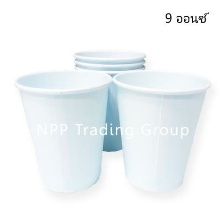paper_cup: (108, 65, 214, 198), (10, 64, 114, 199), (69, 46, 150, 156)
